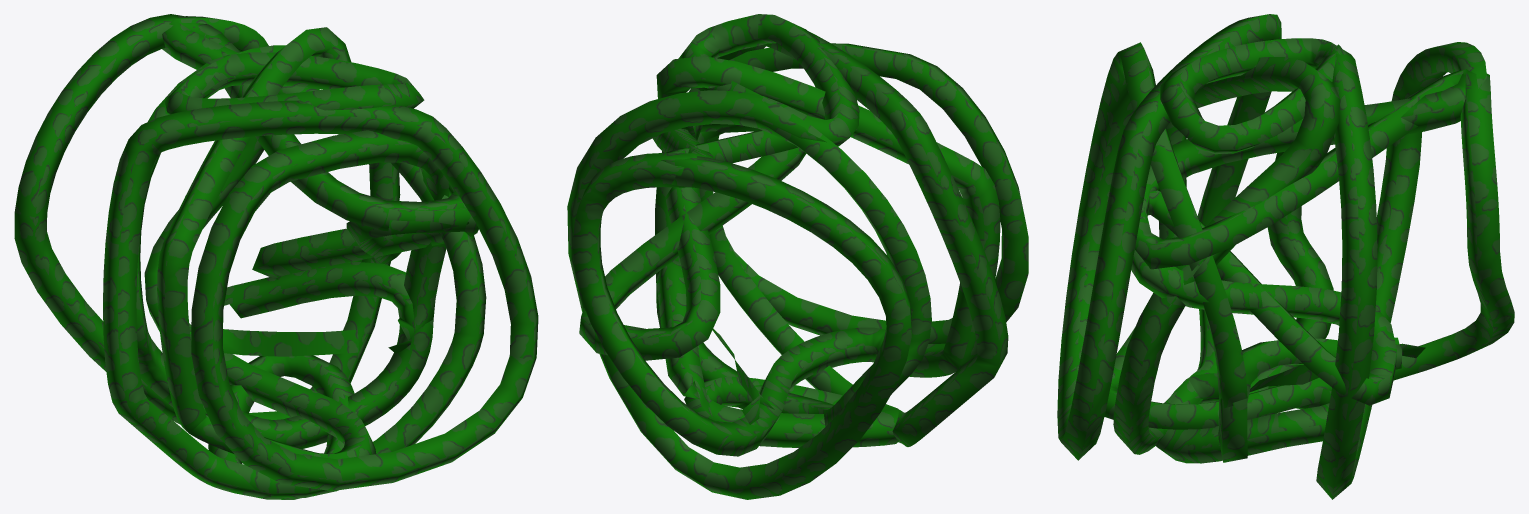
File: item-vines.glb
The picture shows the model from 3 angles, left to right: view 1: azimuth 30°, elevation 25°; view 2: azimuth 150°, elevation 25°; view 3: azimuth 270°, elevation 25°; orthographic projection. The views are drawn at different scales.
Bounding box in the file's own units: 1.02 × 1.08 × 1.04.
1 material, 1 textured.
